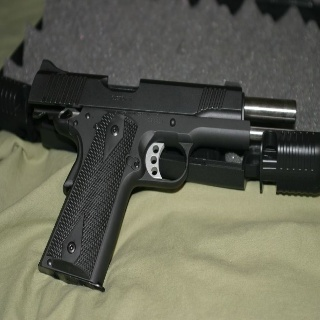pistol: (22, 57, 299, 294)
